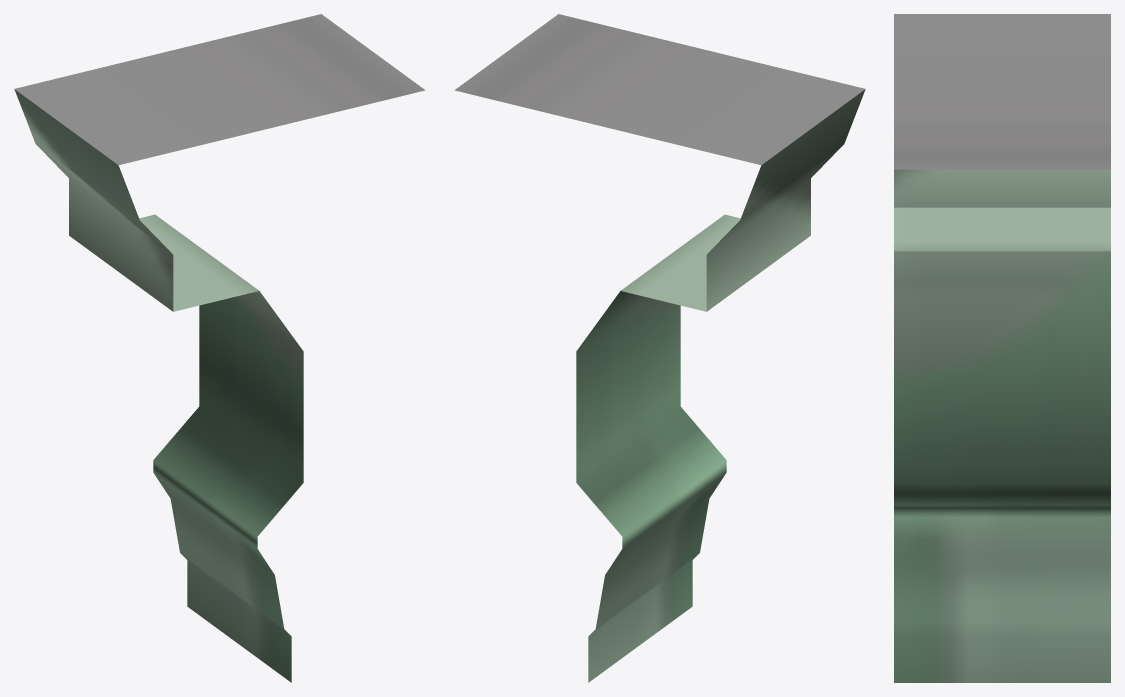
The model's file is qVin_Buld1_RoofTrim1_Right.fbx.
The picture shows the model from 3 angles, left to right: view 1: azimuth 30°, elevation 25°; view 2: azimuth 150°, elevation 25°; view 3: azimuth 270°, elevation 25°; orthographic projection. The views are drawn at different scales.
Visible parts, largest first — view 1: qVin_Buld1_RoofTrim1_Right; view 2: qVin_Buld1_RoofTrim1_Right; view 3: qVin_Buld1_RoofTrim1_Right.
Part boxes in pixels (x1,y1,x2,y2): qVin_Buld1_RoofTrim1_Right: [14, 14, 425, 682]; qVin_Buld1_RoofTrim1_Right: [454, 14, 865, 682]; qVin_Buld1_RoofTrim1_Right: [894, 14, 1110, 682].
Bounding box in the file's own units: 84.92 × 148 × 49.97.
Materials: 1 (1 with a texture image).
